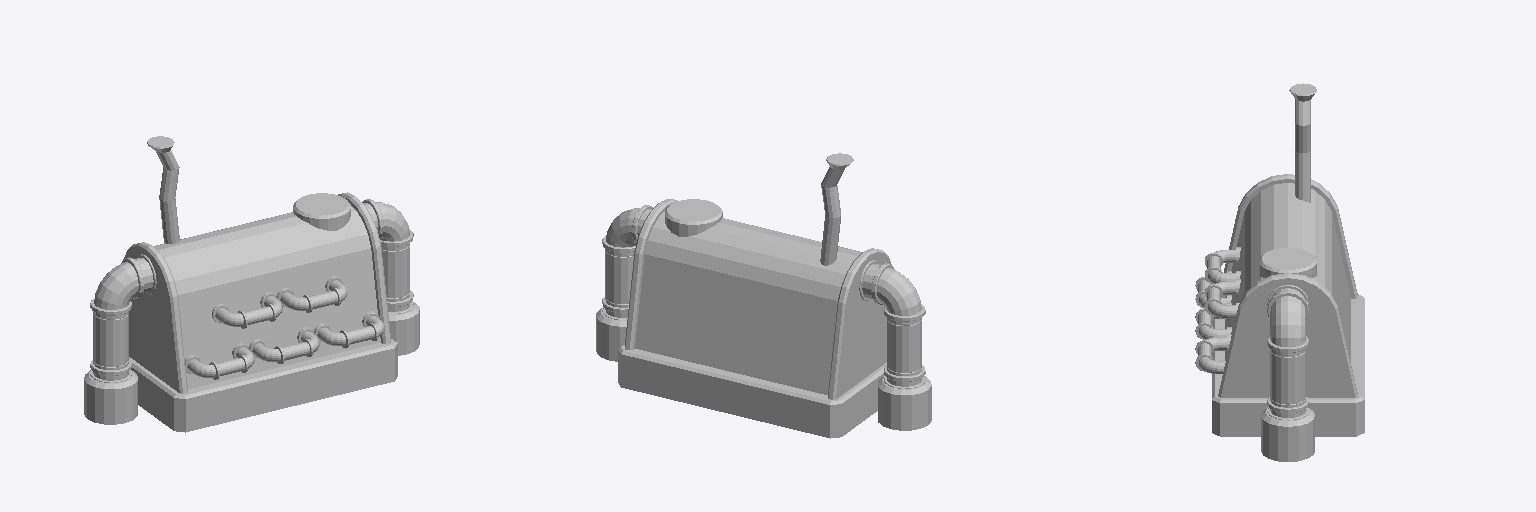
The model's file is WaterPumpMain.obj.
3 views of the same model, side by side, from view 1: azimuth 30°, elevation 25°; view 2: azimuth 150°, elevation 25°; view 3: azimuth 270°, elevation 25° (orthographic).
Parts seen in each view (by area): view 1: WaterPumpBody group3 WaterPumpMain WaterPumpPARTS_TOENGINE, WaterPumpMain WaterPumpPARTS_TOENGINE group1_pTorus2, WaterPumpMain WaterPumpPARTS_TOENGINE group1_pTorus1; view 2: WaterPumpBody group3 WaterPumpMain WaterPumpPARTS_TOENGINE, WaterPumpMain WaterPumpPARTS_TOENGINE group1_pTorus2, WaterPumpMain WaterPumpPARTS_TOENGINE group1_pTorus1; view 3: WaterPumpBody group3 WaterPumpMain WaterPumpPARTS_TOENGINE, WaterPumpMain WaterPumpPARTS_TOENGINE group1_pTorus2, WaterPumpMain WaterPumpPARTS_TOENGINE group1_pTorus1.
Boxes of the visible parts, box(x1,y1,x2,y2) form: WaterPumpBody group3 WaterPumpMain WaterPumpPARTS_TOENGINE: box(90, 136, 413, 393); WaterPumpMain WaterPumpPARTS_TOENGINE group1_pTorus2: box(84, 301, 419, 432); WaterPumpMain WaterPumpPARTS_TOENGINE group1_pTorus1: box(93, 246, 409, 366); WaterPumpBody group3 WaterPumpMain WaterPumpPARTS_TOENGINE: box(602, 153, 925, 399); WaterPumpMain WaterPumpPARTS_TOENGINE group1_pTorus2: box(596, 307, 931, 438); WaterPumpMain WaterPumpPARTS_TOENGINE group1_pTorus1: box(605, 249, 921, 372); WaterPumpBody group3 WaterPumpMain WaterPumpPARTS_TOENGINE: box(1195, 83, 1357, 420); WaterPumpMain WaterPumpPARTS_TOENGINE group1_pTorus2: box(1212, 294, 1364, 461); WaterPumpMain WaterPumpPARTS_TOENGINE group1_pTorus1: box(1270, 350, 1305, 404).
Bounding box in the file's own units: 14.84 × 10.87 × 6.61.